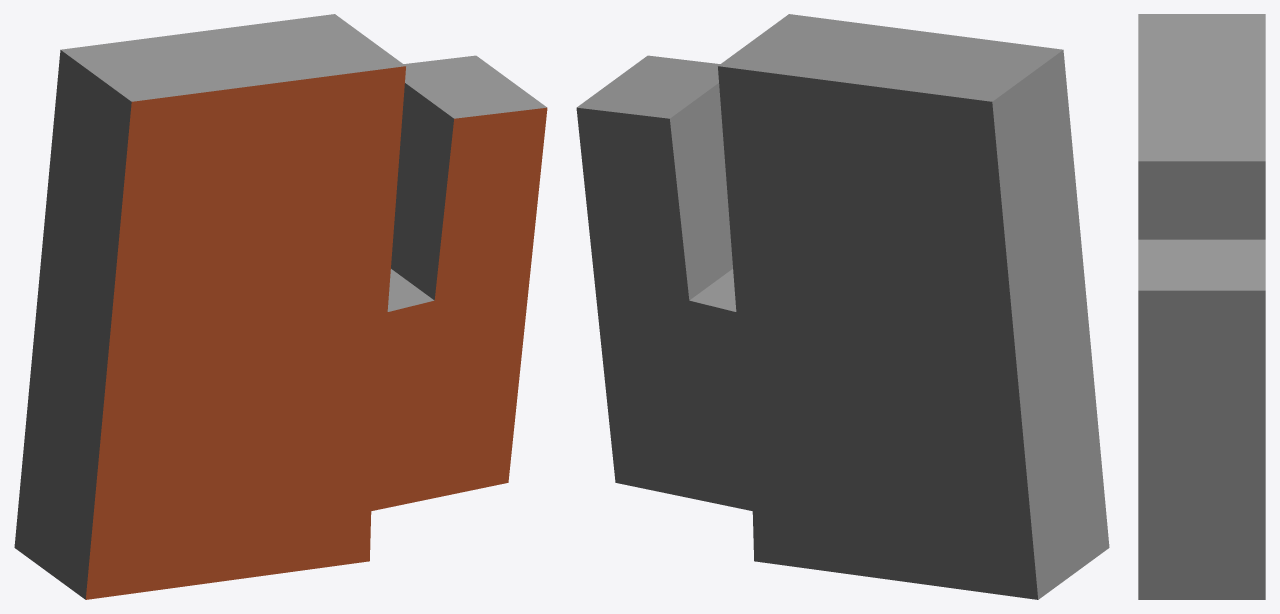
The model's file is construction_4444_assumed_A_Casa_h6m.obj.
The picture shows the model from 3 angles, left to right: view 1: azimuth 30°, elevation 25°; view 2: azimuth 150°, elevation 25°; view 3: azimuth 270°, elevation 25°; orthographic projection. The views are drawn at different scales.
Visible parts, largest first — view 1: construction_4444_assumed_A_Casa; view 2: construction_4444_assumed_A_Casa; view 3: construction_4444_assumed_A_Casa.
Part boxes in pixels (x1,y1,x2,y2): construction_4444_assumed_A_Casa: (14, 14, 547, 599); construction_4444_assumed_A_Casa: (576, 14, 1109, 599); construction_4444_assumed_A_Casa: (1138, 14, 1265, 599).
Size of the model in its own units: 22.45 by 24.05 by 6.
